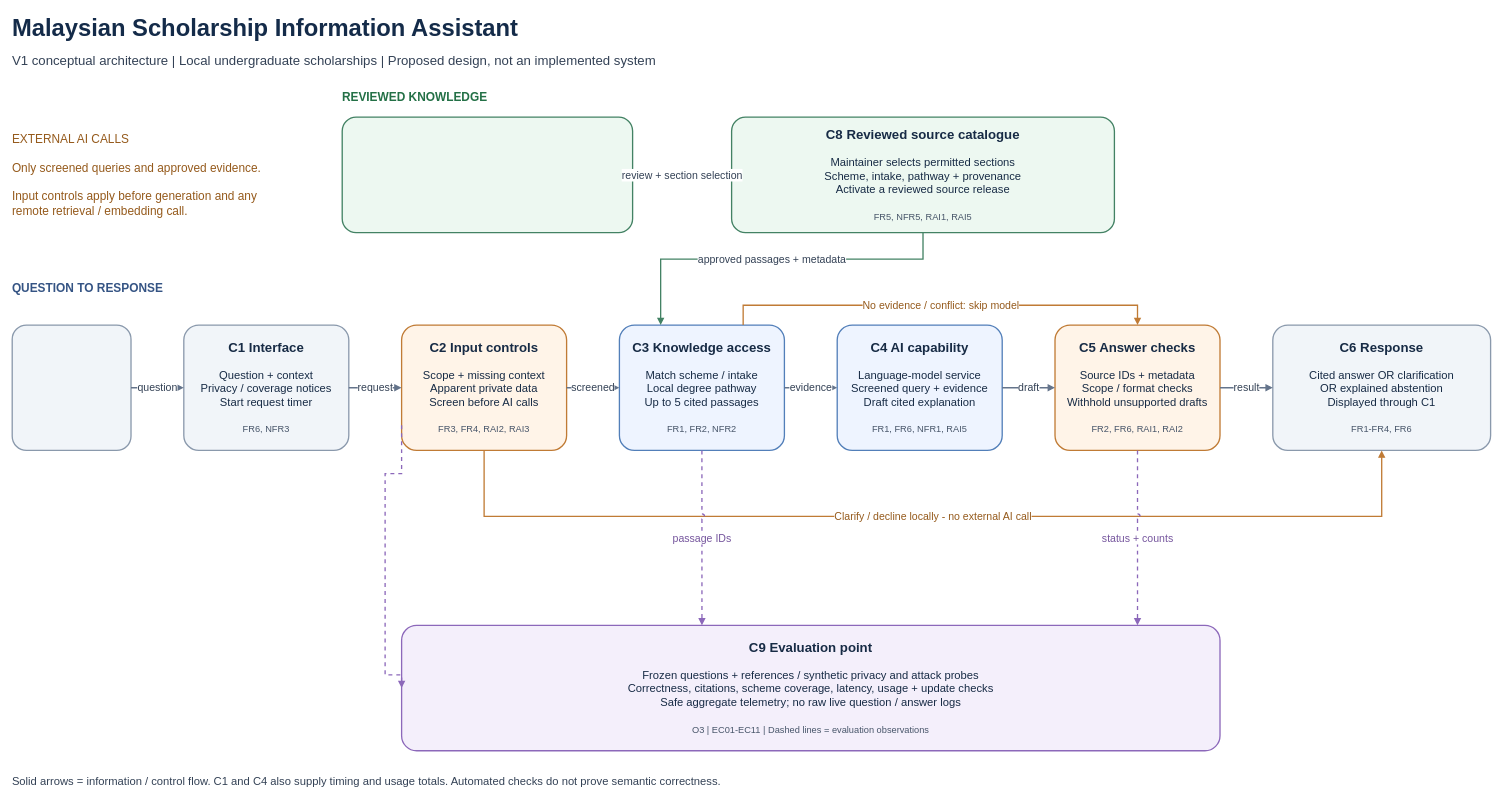
The diagram is 1502 pixels wide and 805 high, and some of its shapes have lost their labels. The shapes that lost their labels are listed below. From the top down, each one's centre as x and y in pixels, then its label:
At (x=487, y=174): "C7 Official documents Khazanah Watan / YTAR YTN PRIME: local pathways FR1, FR5".
At (x=71, y=387): "C0 Learner Malaysian student English question Intended user".
